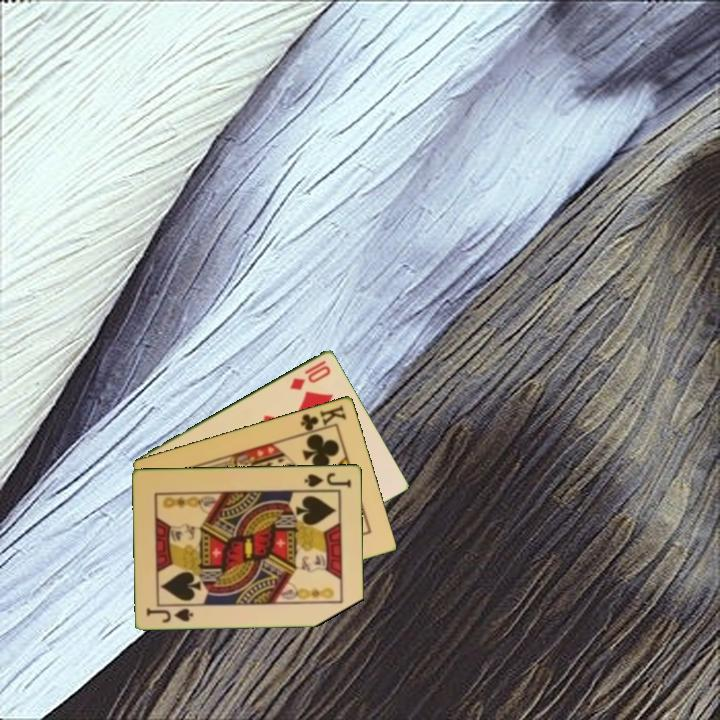10d: (286, 356, 334, 393)
Js: (301, 469, 354, 490), (143, 604, 196, 625)
Kc: (297, 401, 349, 437)
